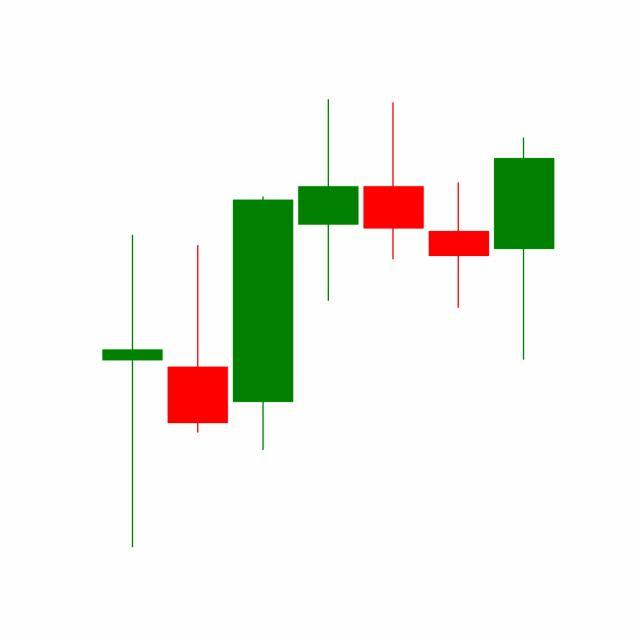Hikkake Pattern: (165, 99, 492, 455)
